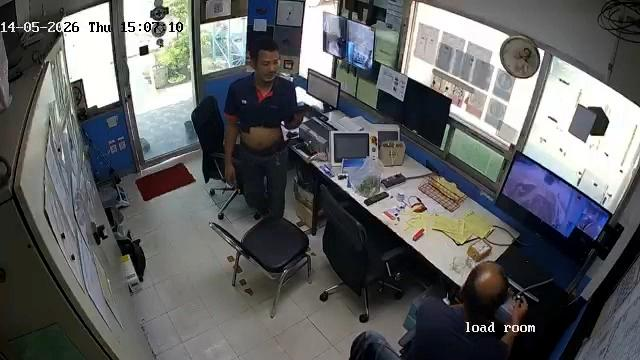Head: (461, 263, 510, 311), (246, 37, 285, 81)
People: (356, 261, 526, 360), (224, 36, 307, 216)
